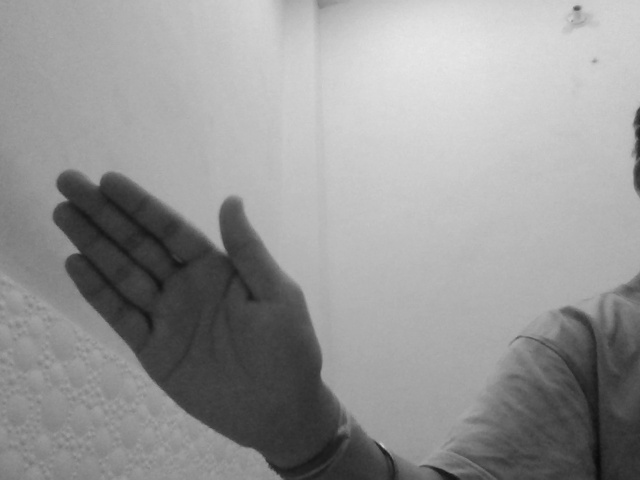Hello: (50, 166, 326, 473)
